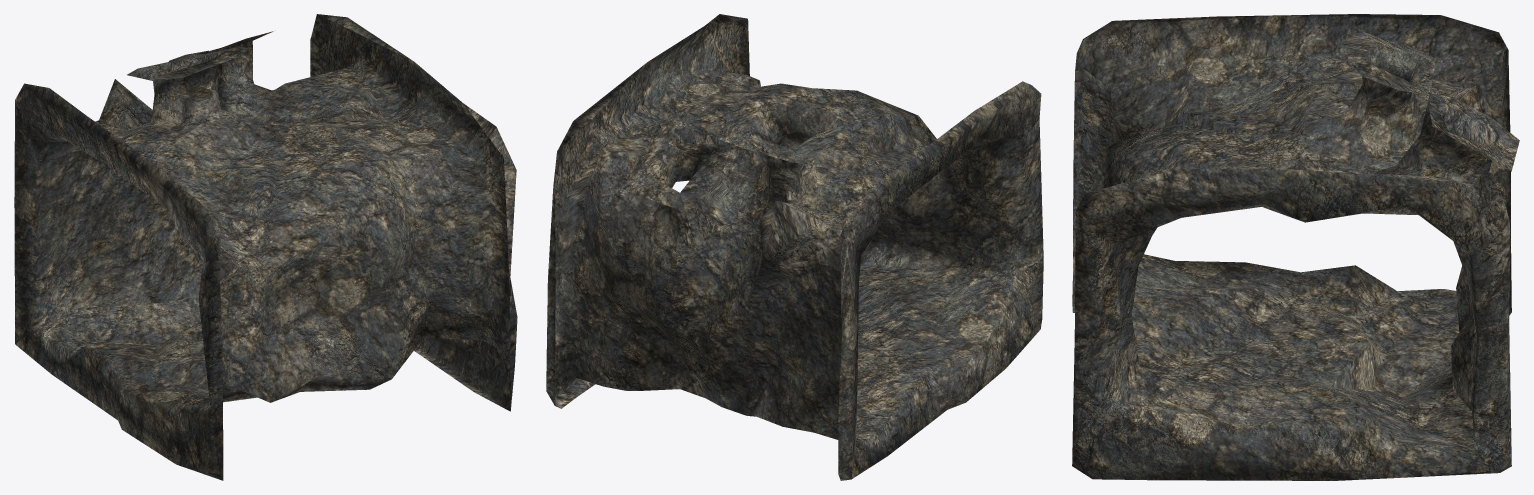
File: Module15C_LOD2.fbx
3 views of the same model, side by side, from view 1: azimuth 30°, elevation 25°; view 2: azimuth 150°, elevation 25°; view 3: azimuth 270°, elevation 25° (orthographic). The views are drawn at different scales.
Parts seen in each view (by area): view 1: cave_el15C_1900:Group30244; view 2: cave_el15C_1900:Group30244; view 3: cave_el15C_1900:Group30244.
Part boxes in pixels (x1=…): cave_el15C_1900:Group30244: x1=14, y1=14, x2=517, y2=480; cave_el15C_1900:Group30244: x1=546, y1=14, x2=1043, y2=480; cave_el15C_1900:Group30244: x1=1072, y1=14, x2=1519, y2=480.
Bounding box in the file's own units: 33.32 × 30.4 × 36.66.
